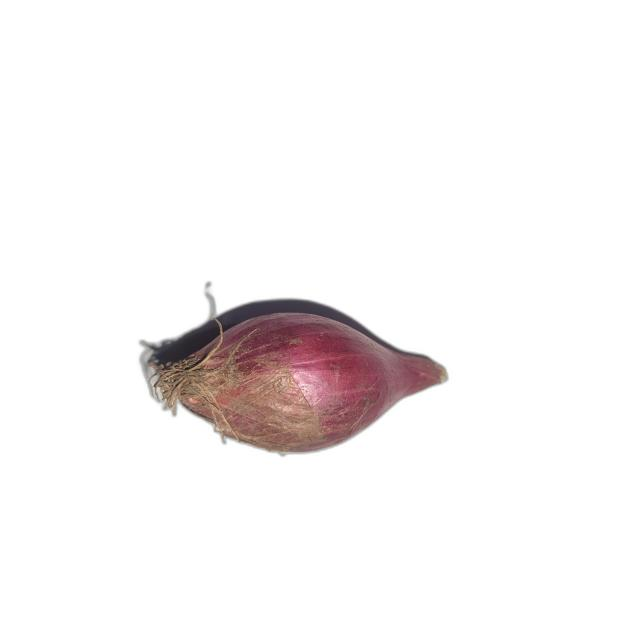onion: (143, 312, 450, 456)
